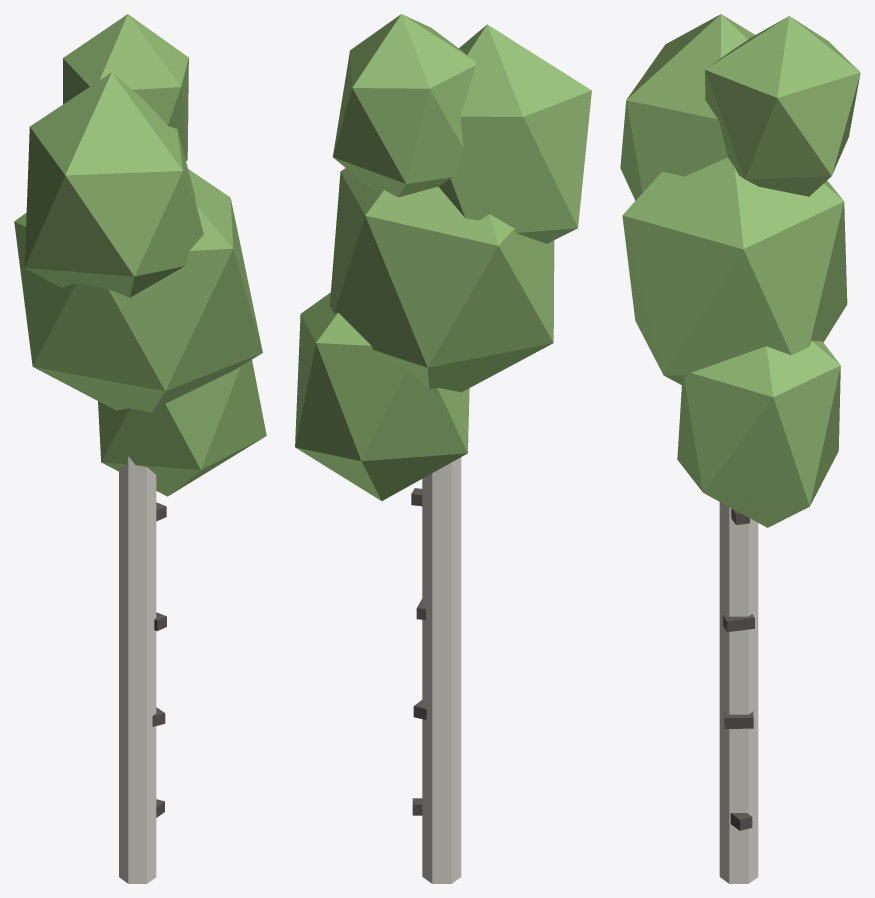
Rendered from SM_Tree_Birch.fbx.
3 renders of one model, left to right at view 1: azimuth 30°, elevation 25°; view 2: azimuth 150°, elevation 25°; view 3: azimuth 270°, elevation 25°, orthographic. The views are drawn at different scales.
Visible parts, largest first — view 1: SM_Tree_Birch; view 2: SM_Tree_Birch; view 3: SM_Tree_Birch.
Part boxes in pixels (x1,y1,x2,y2): SM_Tree_Birch: [14, 14, 266, 883]; SM_Tree_Birch: [295, 14, 591, 883]; SM_Tree_Birch: [620, 14, 860, 883].
Size of the model in its own units: 1.19 by 3.98 by 0.9976.
